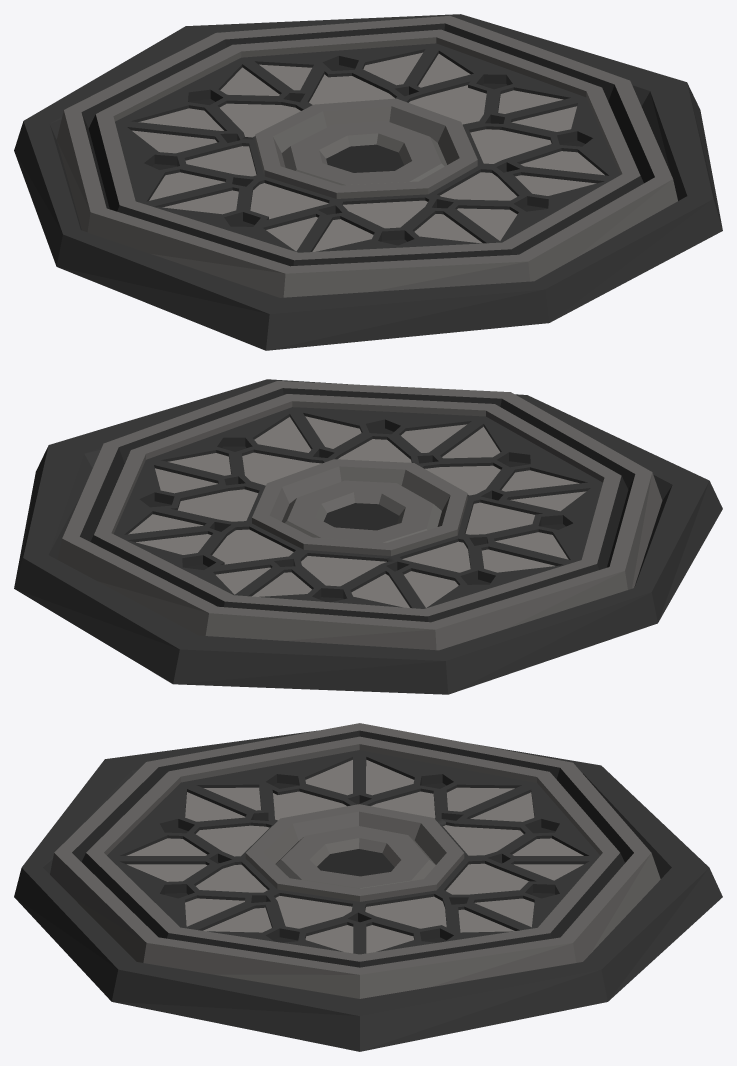
The model's file is Manhole_01.FBX.
3 views of the same model, one above another, from view 1: azimuth 30°, elevation 25°; view 2: azimuth 150°, elevation 25°; view 3: azimuth 270°, elevation 25° (orthographic). The views are drawn at different scales.
Parts seen in each view (by area): view 1: Manhole_01; view 2: Manhole_01; view 3: Manhole_01.
Part boxes in pixels (x1=…): Manhole_01: x1=14, y1=14, x2=722, y2=350; Manhole_01: x1=14, y1=379, x2=722, y2=694; Manhole_01: x1=14, y1=723, x2=722, y2=1051.
Bounding box in the file's own units: 2.18 × 0.1502 × 2.18.
